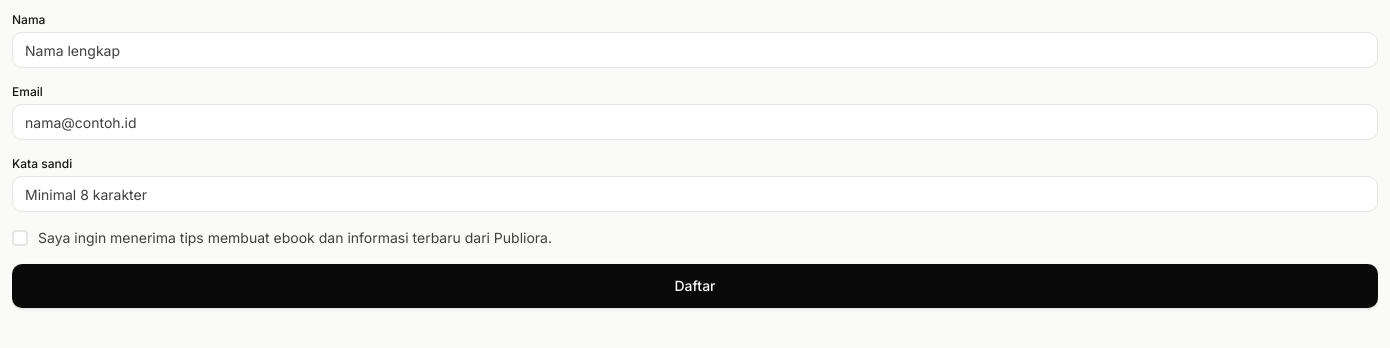
it: RegisterForm › rejects plus subaddressing (+tag) at form validation level
Type "Abuse User" into the field labelled "Nama" at (695, 50), box [12,32,1378,68]
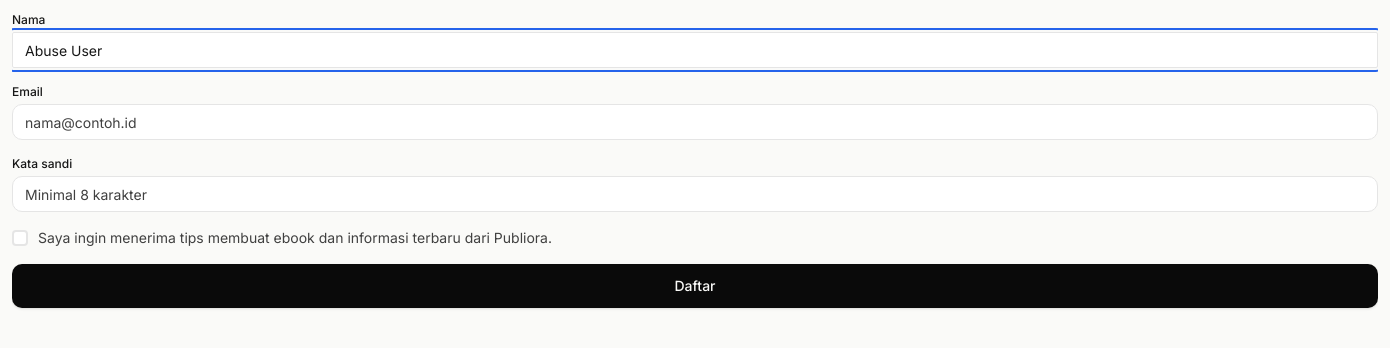
Type "bima+free1@gmail.com" into the field labelled "Email" at (695, 122), box [12,104,1378,140]
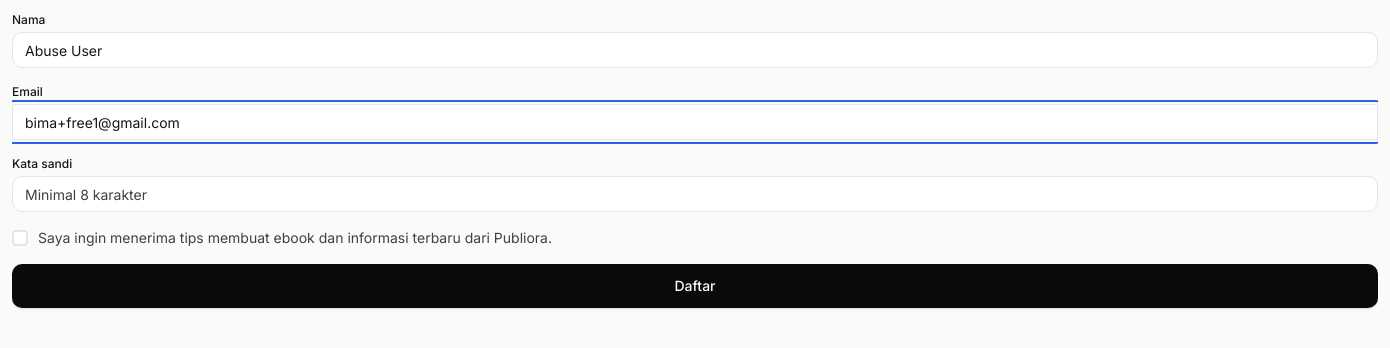
Type "rahasia123" into the password field labelled "Kata sandi" at (695, 194), box [12,176,1378,212]
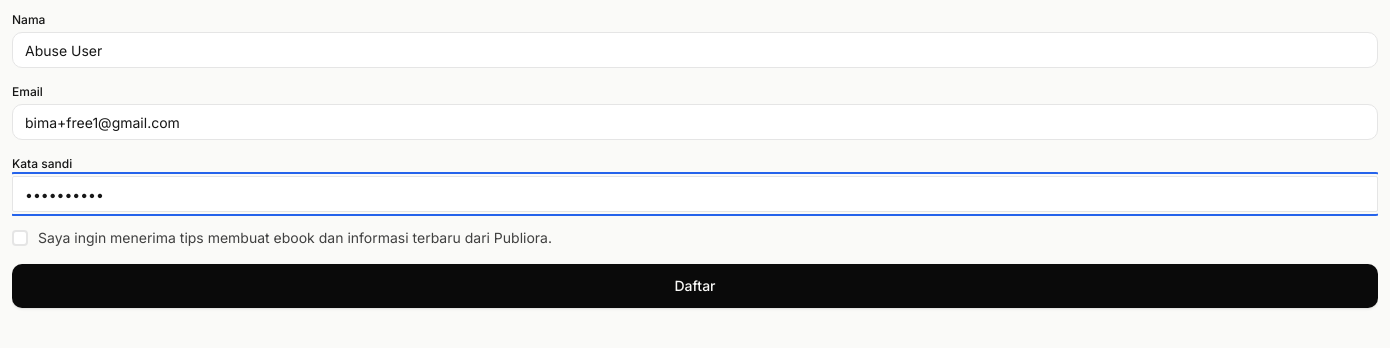
Click the button "Daftar" at (695, 286), box [12,264,1378,308]
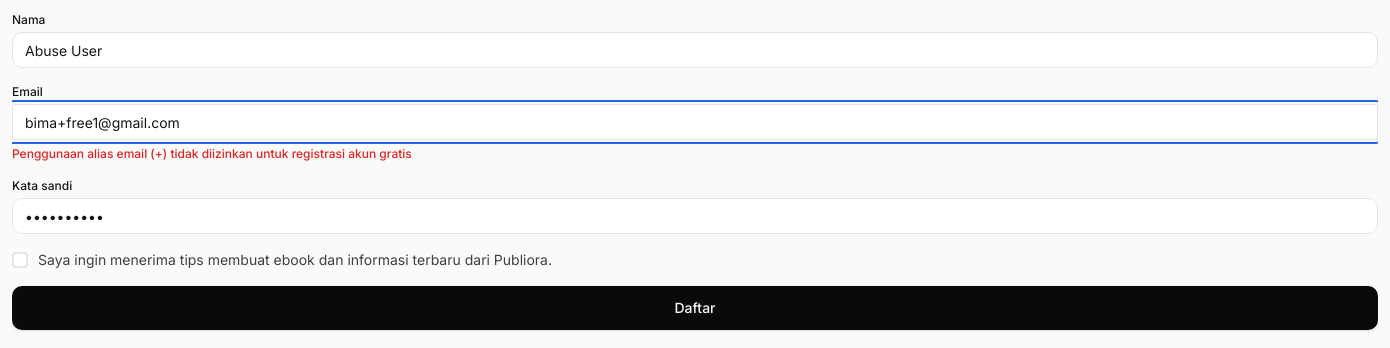
Result: the text "alias email (+)" is shown at [12,146,412,161]
